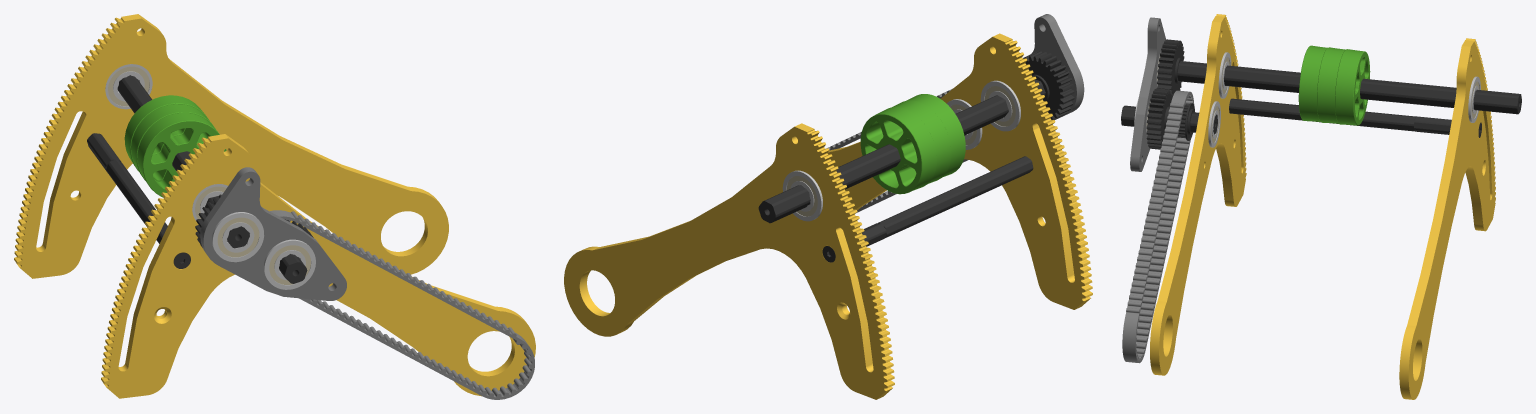
Rendered from shooterHood.glb.
The picture shows the model from 3 angles, left to right: view 1: azimuth 30°, elevation 25°; view 2: azimuth 150°, elevation 25°; view 3: azimuth 270°, elevation 25°; orthographic projection. The views are drawn at different scales.
Visible parts, largest first — view 1: Part 1 (×2), Part 5, 2" Compliant Wheel (35A, 3/4" Wide, 1/2" Hex Stretch Bore) (×3), 90T HTD Belt, 1/2" Hex Bore Bearing (1.125" OD, 0.313" WD, Shielded, Flang (×4), #10 Aluminum Standoff (10" L, 1/2" Hex Profile), #10-32 Aluminum Standoff (3/8" Hex, 5" L), #10-32 Aluminum Standoff (3/8" Hex, 1.5" L), #10 Aluminum Standoff (2-1/2" L, 1/2" Hex Profile); view 2: Part 1 (×2), 2" Compliant Wheel (35A, 3/4" Wide, 1/2" Hex Stretch Bore) (×3), #10 Aluminum Standoff (10" L, 1/2" Hex Profile), #10-32 Aluminum Standoff (3/8" Hex, 5" L), 1/2" Hex Bore Bearing (1.125" OD, 0.313" WD, Shielded, Flang (×3), 30t Steel Spur Gear (20 DP, 1/2" Hex Bore), Part 5, 90T HTD Belt; view 3: Part 1 (×2), 90T HTD Belt, #10 Aluminum Standoff (10" L, 1/2" Hex Profile), 2" Compliant Wheel (35A, 3/4" Wide, 1/2" Hex Stretch Bore) (×3), 30t Steel Spur Gear (20 DP, 1/2" Hex Bore) (×2), Part 5, #10-32 Aluminum Standoff (3/8" Hex, 5" L), 1/2" Hex Bore Bearing (1.125" OD, 0.313" WD, Shielded, Flang (×3), #10-32 Aluminum Standoff (3/8" Hex, 1.5" L), #10 Aluminum Standoff (2-1/2" L, 1/2" Hex Profile), 24t Aluminum Pulley (GT2 3mm, 9mm Wide, 1/2" Hex Bore).
Boxes of the visible parts, x1,y1,x2,y2 form: Part 1 (×2): (14, 14, 535, 398); Part 5: (200, 167, 346, 300); 2" Compliant Wheel (35A, 3/4" Wide, 1/2" Hex Stretch Bore) (×3): (124, 95, 226, 197); 90T HTD Belt: (270, 210, 534, 399); 1/2" Hex Bore Bearing (1.125" OD, 0.313" WD, Shielded, Flang (×4): (105, 64, 315, 289); #10 Aluminum Standoff (10" L, 1/2" Hex Profile): (117, 75, 249, 248); #10-32 Aluminum Standoff (3/8" Hex, 5" L): (106, 159, 167, 243); #10-32 Aluminum Standoff (3/8" Hex, 1.5" L): (87, 133, 121, 171); #10 Aluminum Standoff (2-1/2" L, 1/2" Hex Profile): (279, 254, 307, 283); Part 1 (×2): (564, 33, 1092, 399); 2" Compliant Wheel (35A, 3/4" Wide, 1/2" Hex Stretch Bore) (×3): (860, 94, 965, 194); #10 Aluminum Standoff (10" L, 1/2" Hex Profile): (758, 79, 1045, 223); #10-32 Aluminum Standoff (3/8" Hex, 5" L): (878, 156, 1033, 237); 1/2" Hex Bore Bearing (1.125" OD, 0.313" WD, Shielded, Flang (×3): (782, 80, 1020, 221); 30t Steel Spur Gear (20 DP, 1/2" Hex Bore): (1023, 51, 1074, 119); Part 5: (1023, 14, 1084, 119); 90T HTD Belt: (827, 89, 968, 212); Part 1 (×2): (1150, 14, 1495, 399); 90T HTD Belt: (1122, 90, 1194, 363); #10 Aluminum Standoff (10" L, 1/2" Hex Profile): (1177, 61, 1521, 114); 2" Compliant Wheel (35A, 3/4" Wide, 1/2" Hex Stretch Bore) (×3): (1298, 45, 1370, 125); 30t Steel Spur Gear (20 DP, 1/2" Hex Bore) (×2): (1146, 39, 1184, 149); Part 5: (1130, 17, 1165, 171); #10-32 Aluminum Standoff (3/8" Hex, 5" L): (1229, 98, 1415, 131); 1/2" Hex Bore Bearing (1.125" OD, 0.313" WD, Shielded, Flang (×3): (1208, 52, 1480, 147); #10-32 Aluminum Standoff (3/8" Hex, 1.5" L): (1414, 116, 1451, 134); #10 Aluminum Standoff (2-1/2" L, 1/2" Hex Profile): (1121, 105, 1217, 134); 24t Aluminum Pulley (GT2 3mm, 9mm Wide, 1/2" Hex Bore): (1166, 103, 1194, 140).
Bounding box in the file's own units: 0.2941 × 0.186 × 0.2684.
